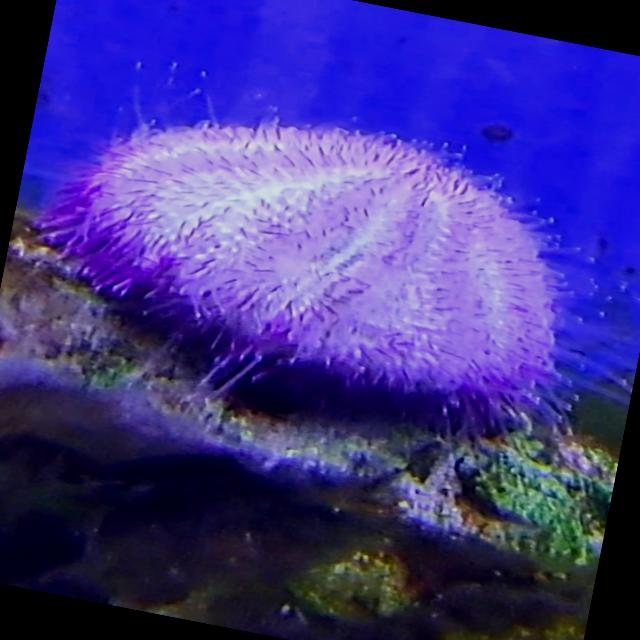Deniz Kestanesi: (6, 56, 637, 462)
